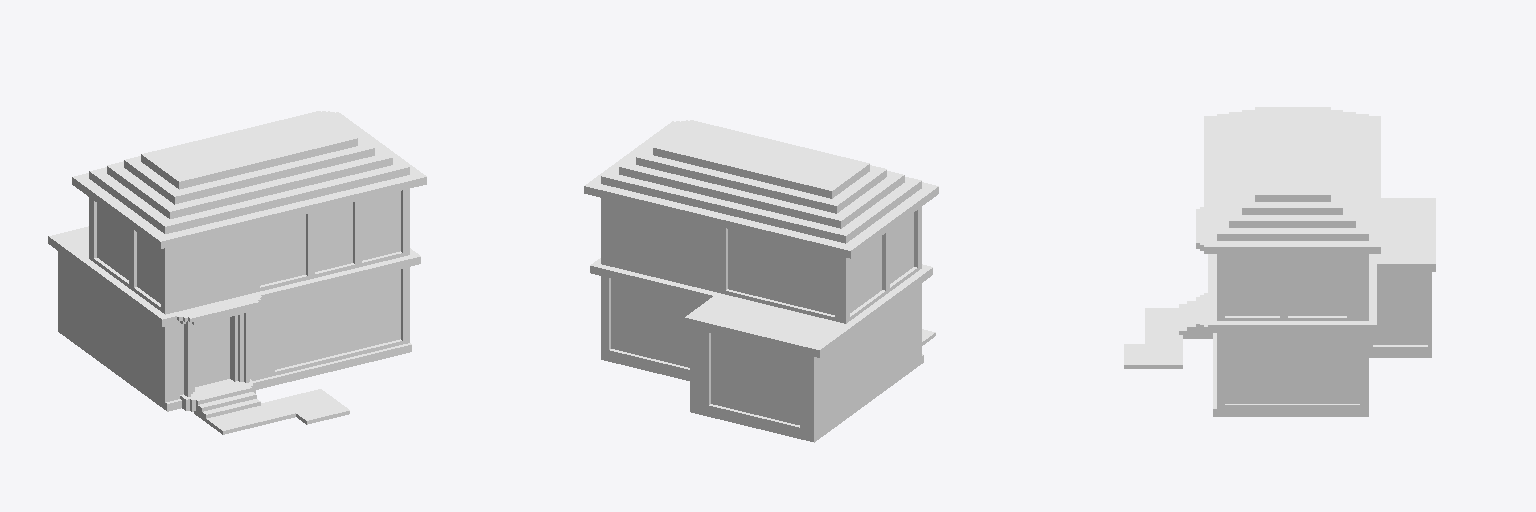
The model's file is singleHouse1.obj.
3 views of the same model, side by side, from view 1: azimuth 30°, elevation 25°; view 2: azimuth 150°, elevation 25°; view 3: azimuth 270°, elevation 25° (orthographic).
Visible parts, largest first — view 1: object 1; view 2: object 1; view 3: object 1.
Part boxes in pixels (bbox=[...]): object 1: bbox=[48, 111, 426, 434]; object 1: bbox=[584, 120, 938, 442]; object 1: bbox=[1124, 107, 1435, 416].
Bounding box in the file's own units: 7.3 × 5.5 × 7.4.